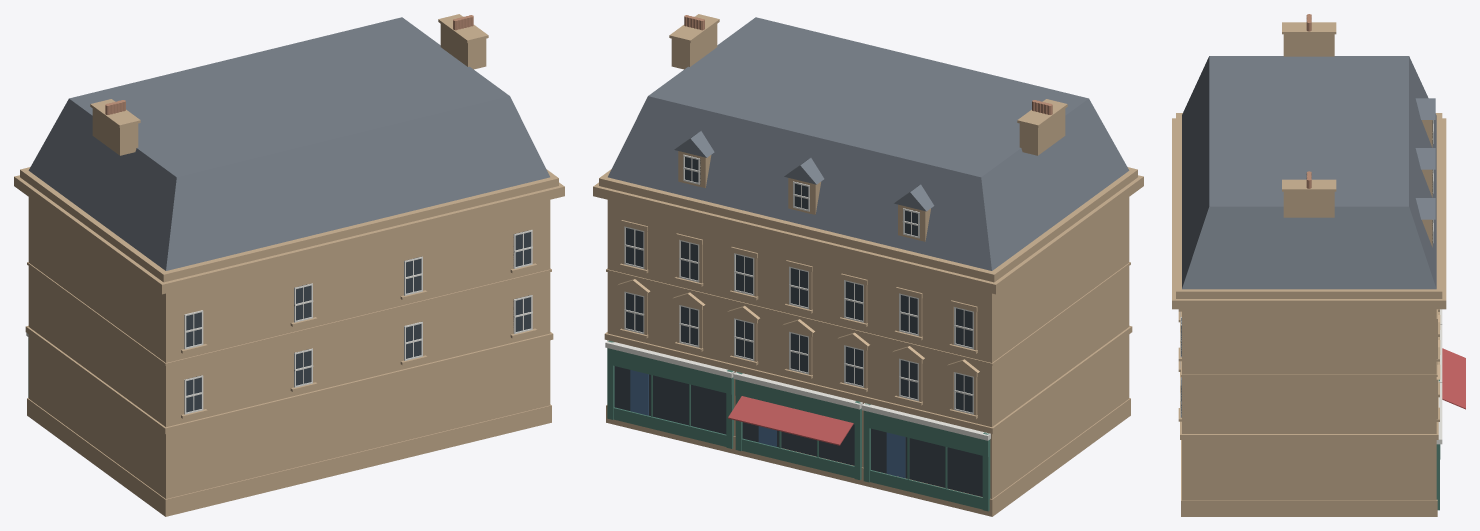
Rendered from classical3_shops.glb.
3 renders of one model, left to right at view 1: azimuth 30°, elevation 25°; view 2: azimuth 150°, elevation 25°; view 3: azimuth 270°, elevation 25°, orthographic. The views are drawn at different scales.
Visible parts, largest first — view 1: classical3_shops; view 2: classical3_shops; view 3: classical3_shops.
Boxes of the visible parts, box(x1,y1,x2,y2) form: classical3_shops: box(14, 14, 564, 516); classical3_shops: box(593, 14, 1143, 516); classical3_shops: box(1172, 14, 1465, 516).
Size of the model in its own units: 22 by 18.72 by 15.
